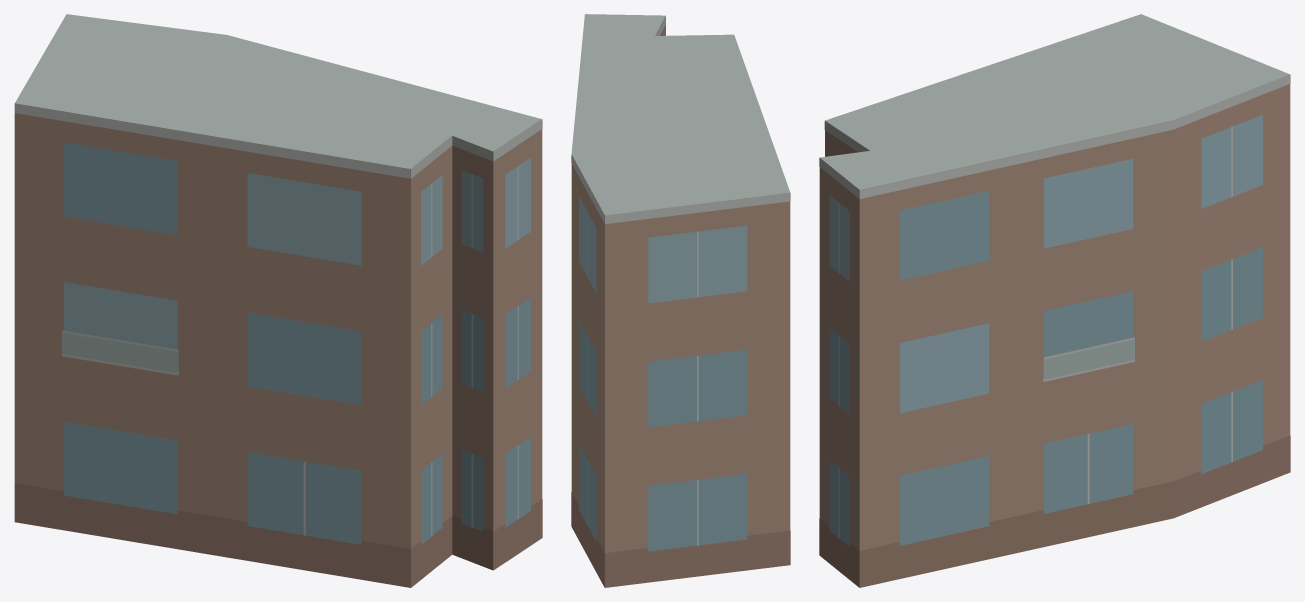
File: survey-upis-32726177.glb
3 renders of one model, left to right at view 1: azimuth 30°, elevation 25°; view 2: azimuth 150°, elevation 25°; view 3: azimuth 270°, elevation 25°, orthographic. The views are drawn at different scales.
Visible parts, largest first — view 1: survey-upis-32726177.tmp; view 2: survey-upis-32726177.tmp; view 3: survey-upis-32726177.tmp.
Part boxes in pixels (bbox=[...]): survey-upis-32726177.tmp: bbox=[14, 14, 542, 587]; survey-upis-32726177.tmp: bbox=[571, 14, 790, 587]; survey-upis-32726177.tmp: bbox=[819, 14, 1290, 587].
Bounding box in the file's own units: 9.97 × 10.5 × 11.27.
